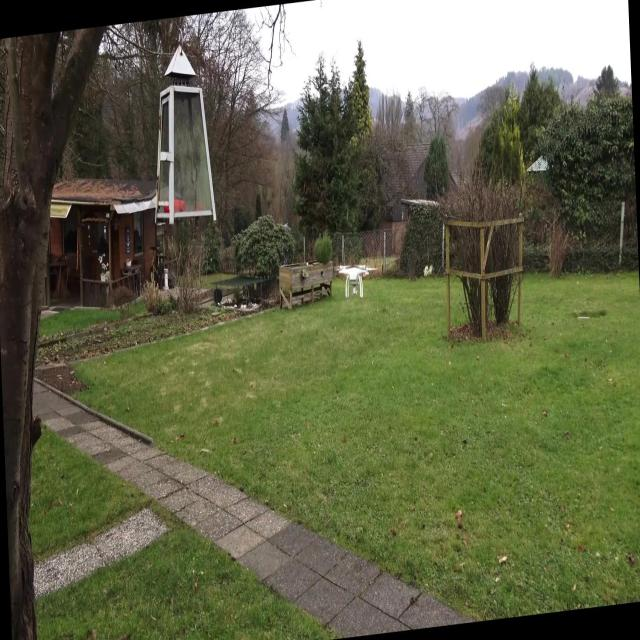drone: (332, 253, 375, 308)
